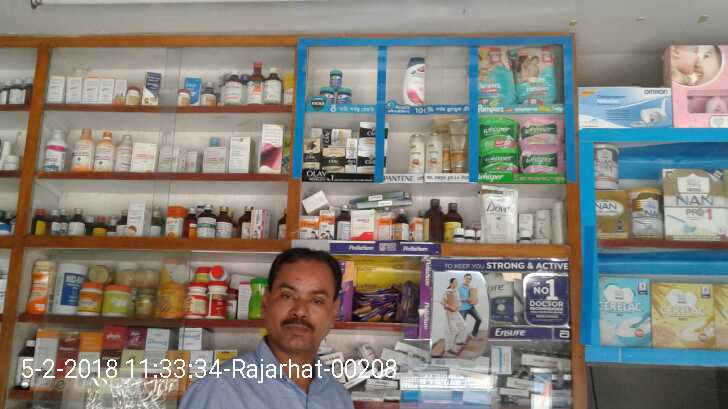vicks: (323, 66, 351, 105)
